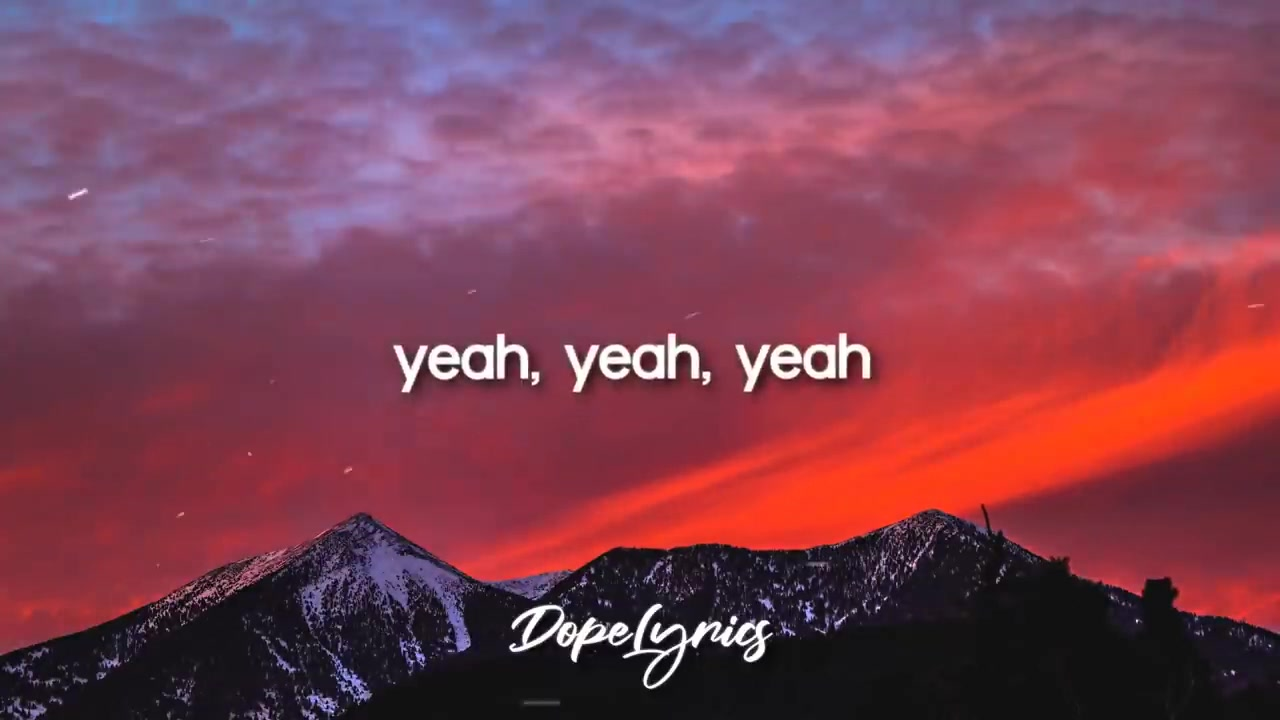text-label: (388, 330, 877, 402)
